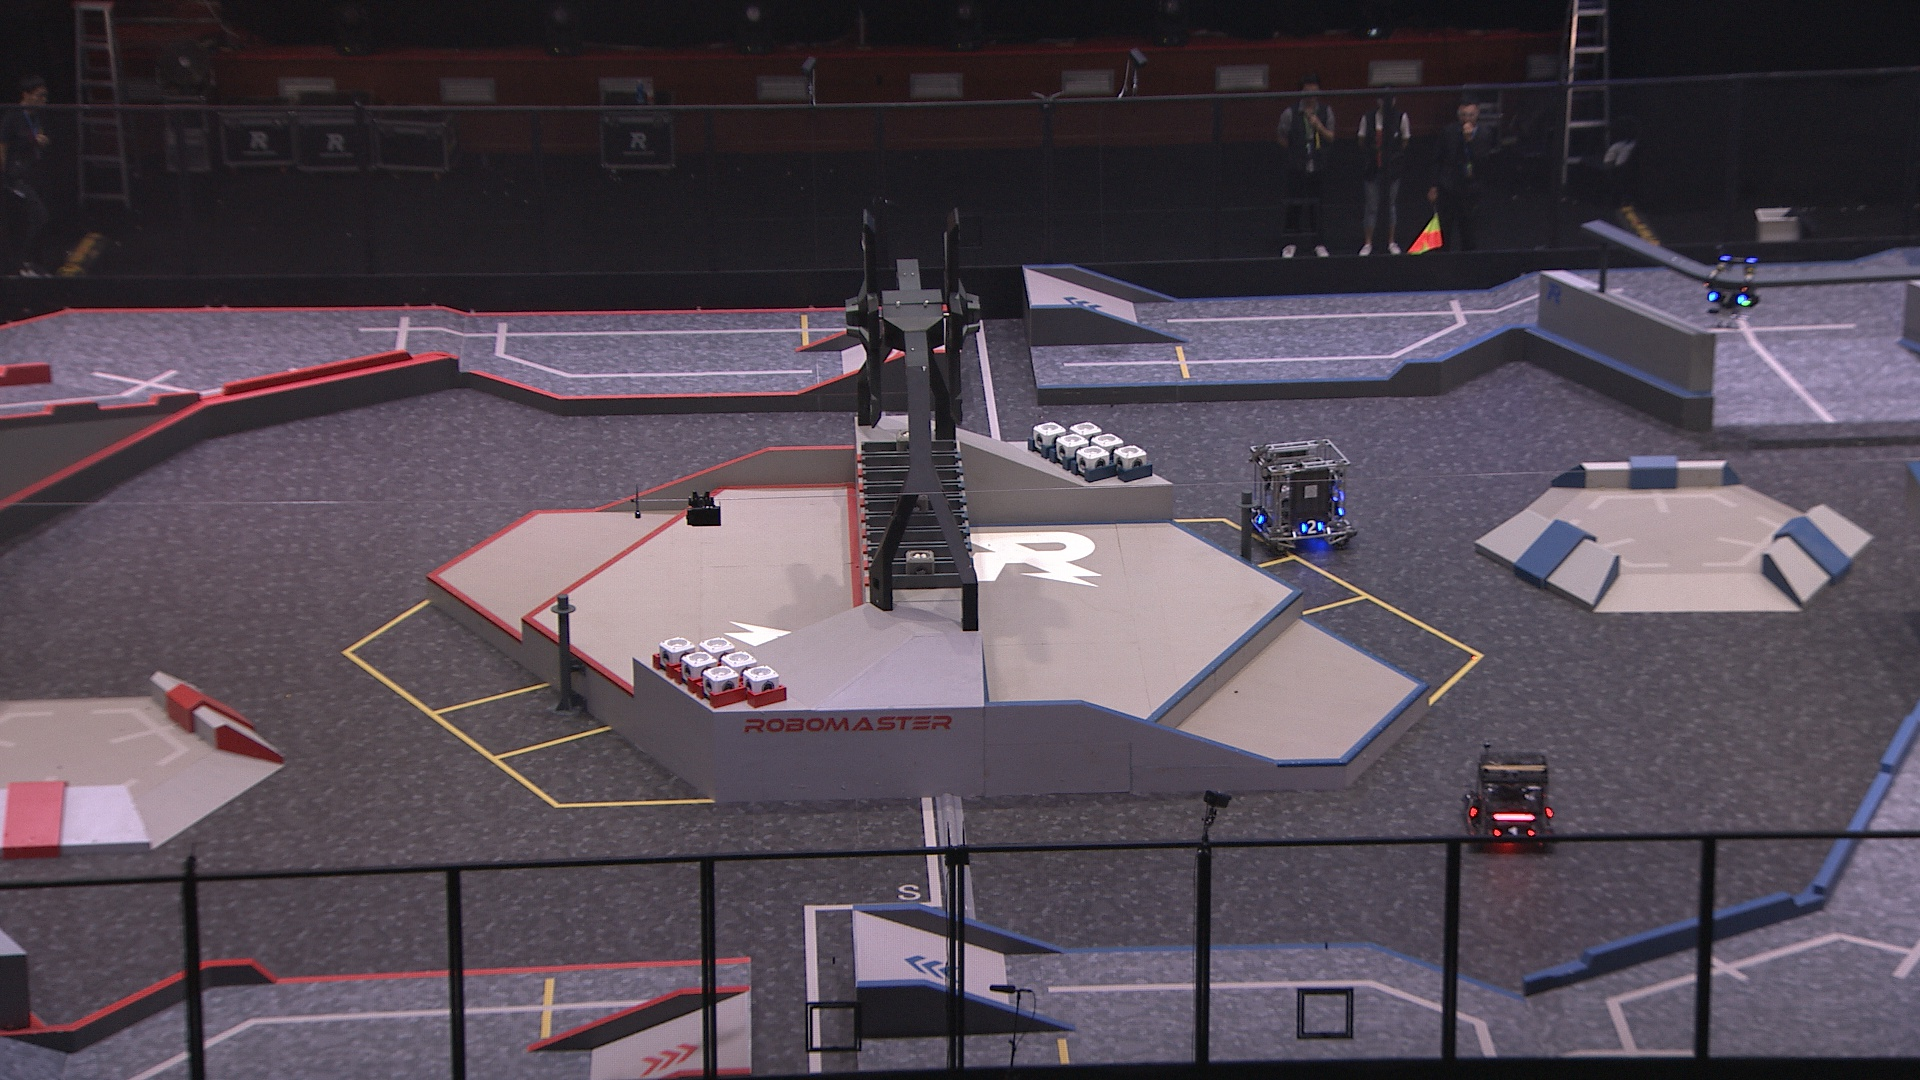armor: (1494, 825, 1536, 845), (1708, 290, 1750, 306), (1300, 518, 1323, 535), (1251, 509, 1266, 533)
car: (1251, 439, 1354, 553), (1462, 750, 1563, 856)
watcher: (1704, 256, 1764, 319)
